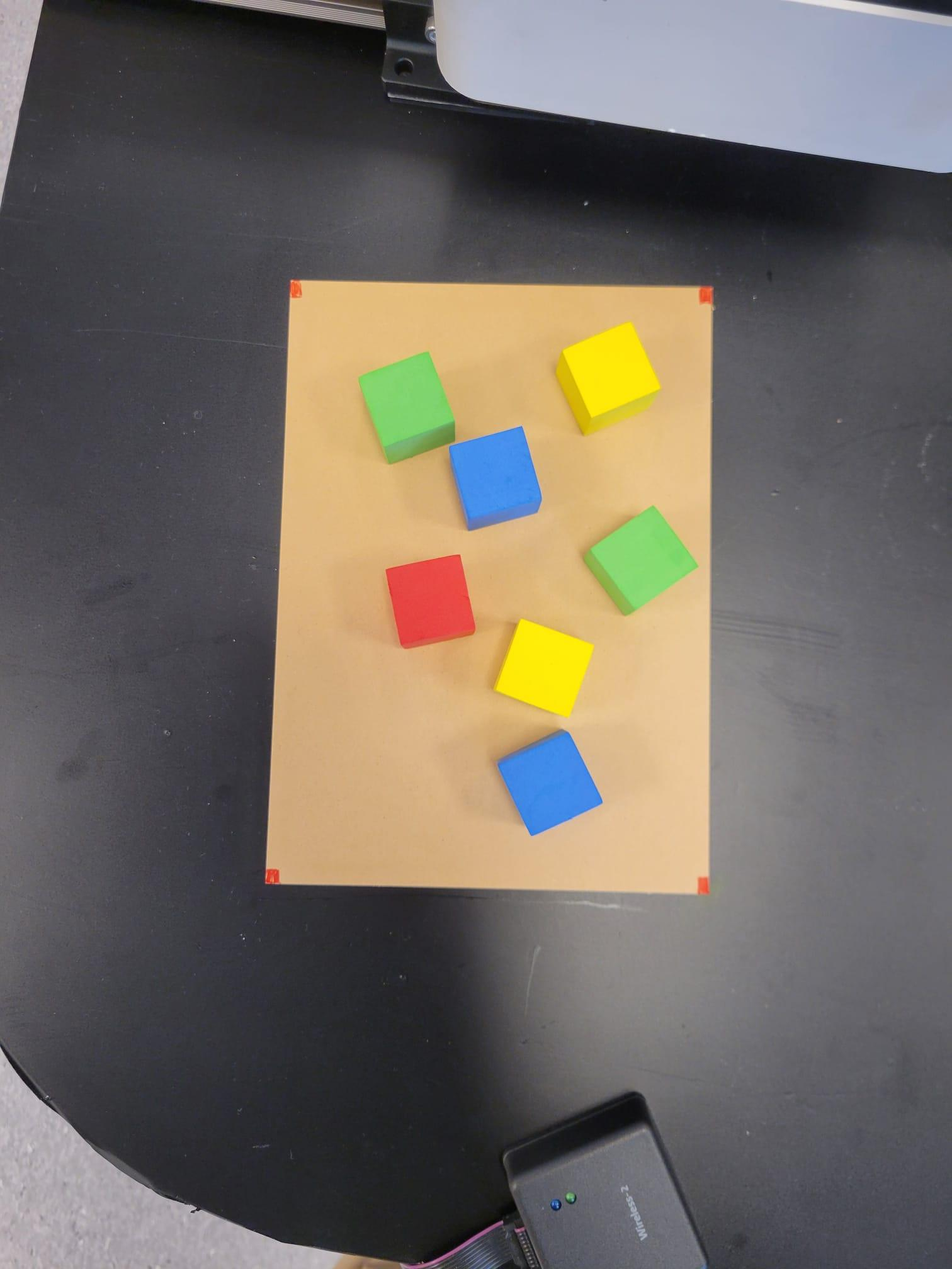cube: (560, 318, 663, 437), (589, 507, 699, 618), (501, 729, 603, 836), (360, 352, 453, 464), (493, 622, 595, 719), (450, 428, 545, 530), (386, 556, 475, 650)
